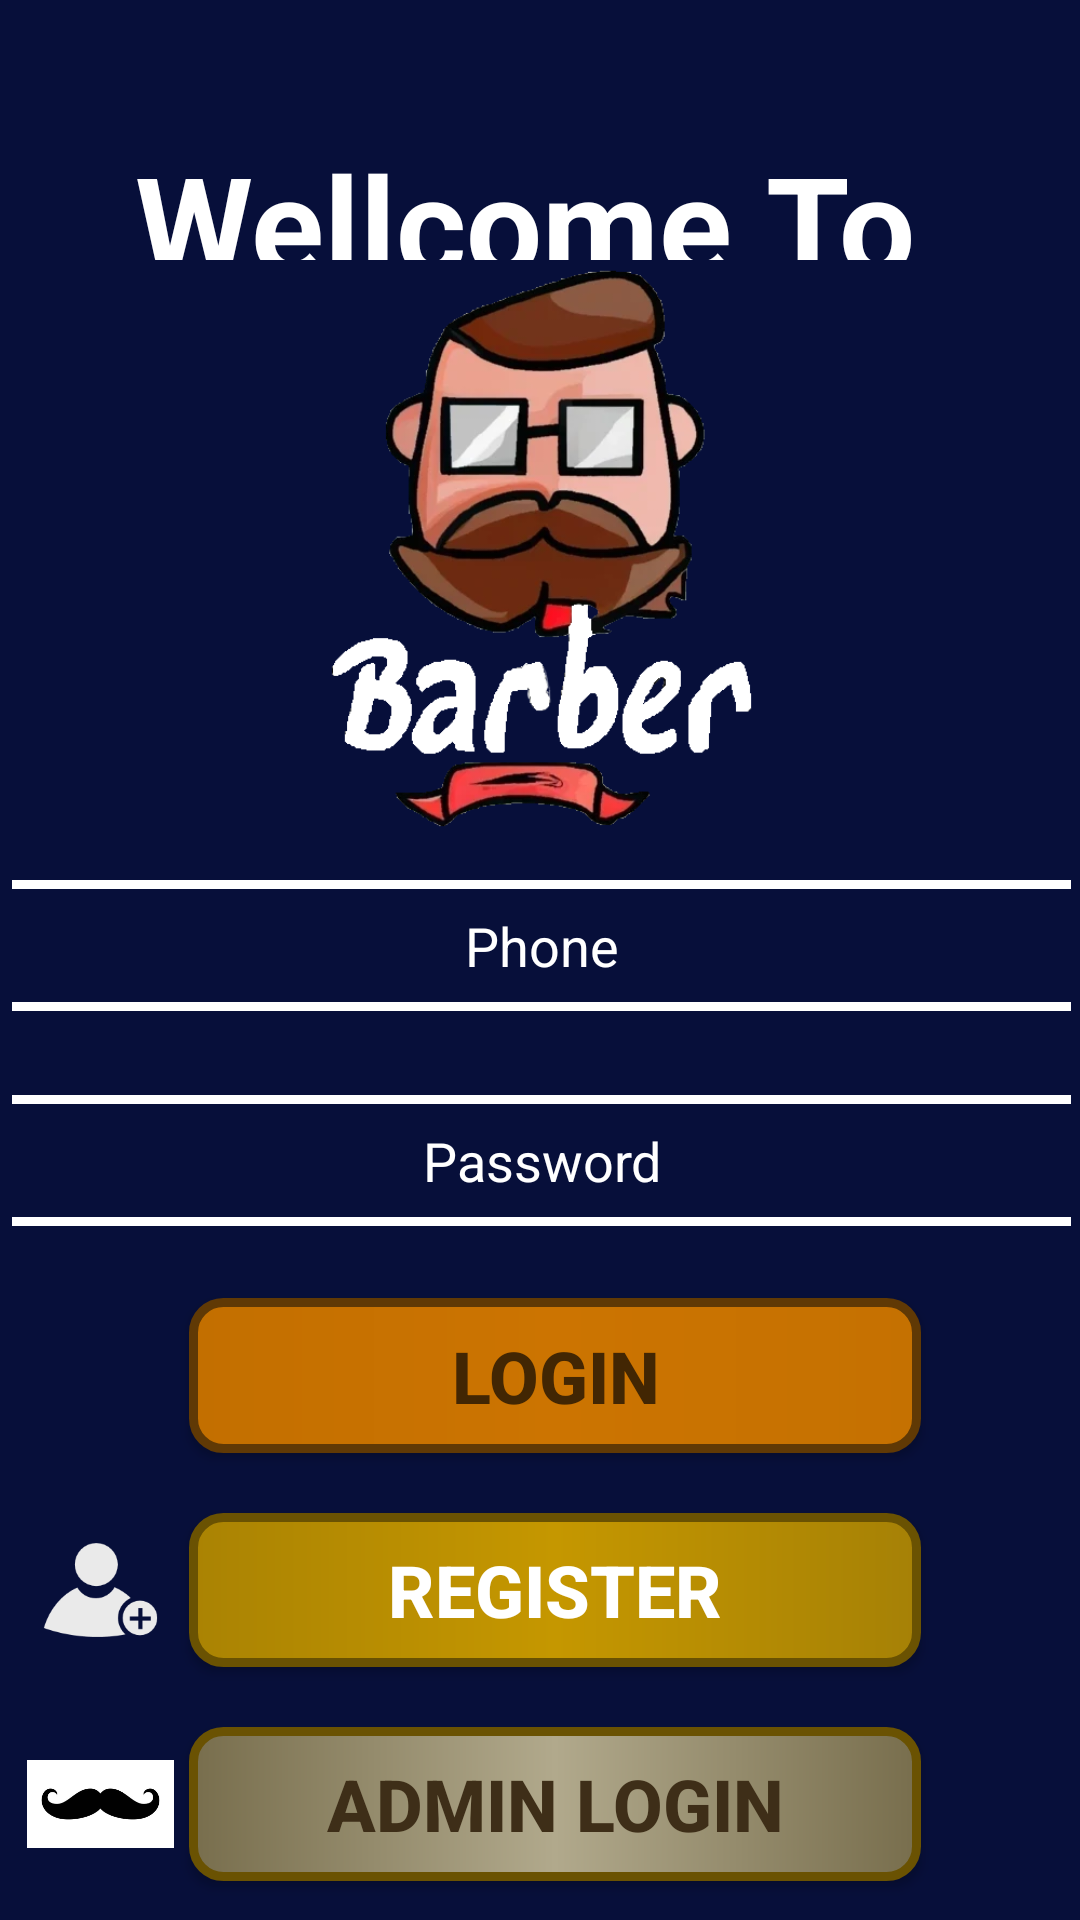

Where to tap for icons on this 1080x1920 app screen, as point (x, y):
myuseradd: point (100, 1590)
